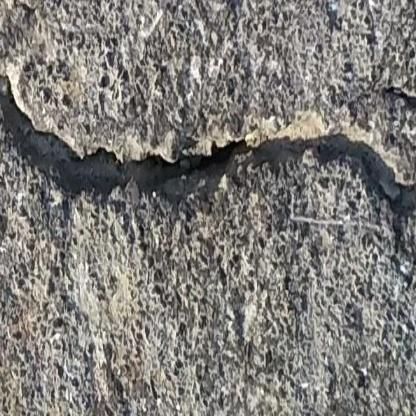Cracks: (0, 53, 416, 220), (380, 84, 416, 119)
